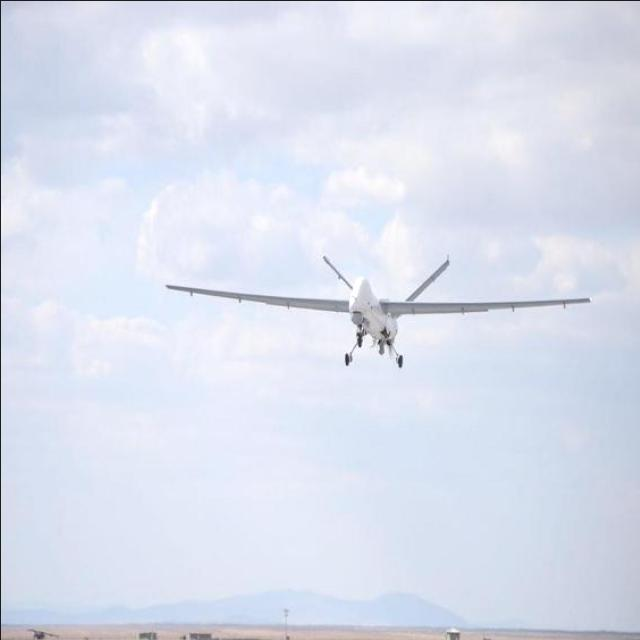plane: (162, 250, 591, 368)
